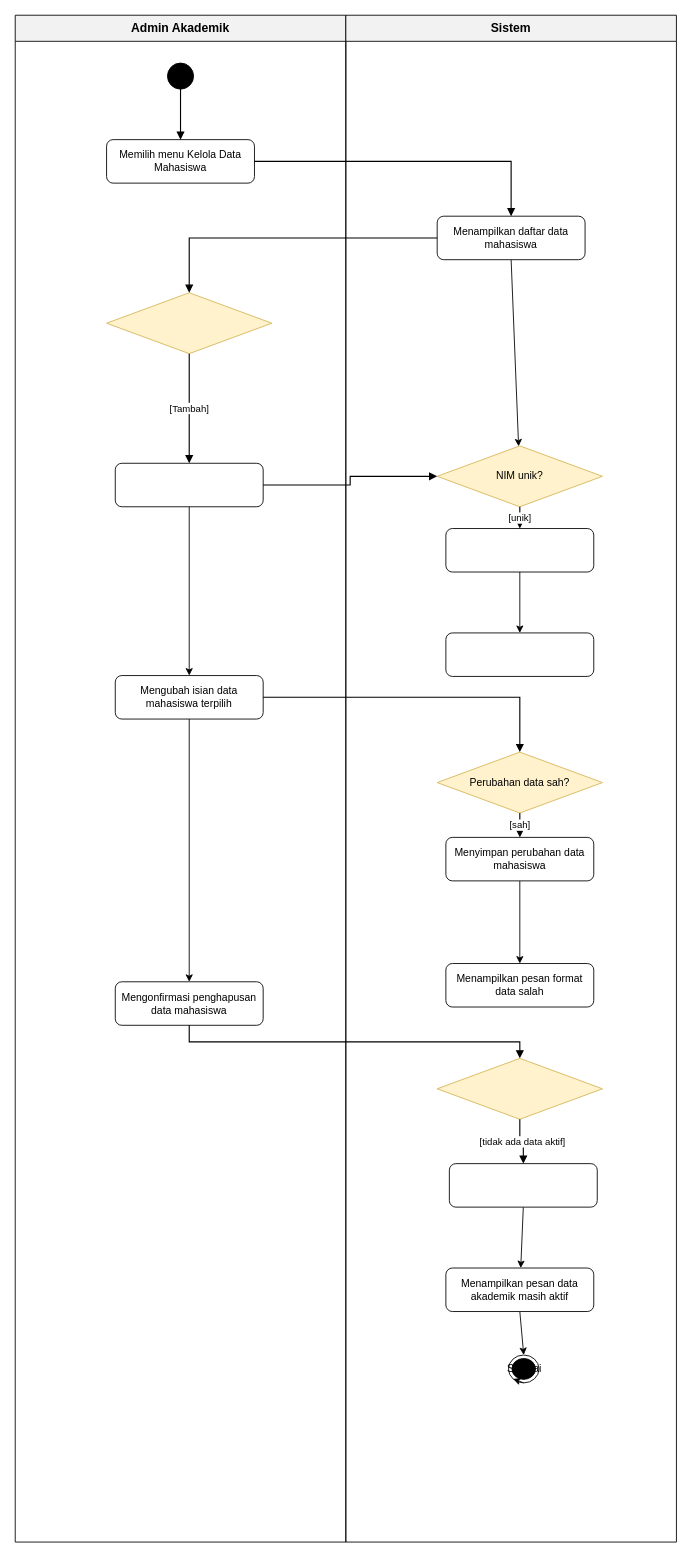
Image size: 692x1557. Some labels were removed from this diagram. The shapes that lost their labels are listed below. From the top down, each one's centre as x and y in pixels, then its label:
pixel 189 323: Memilih operasi pengelolaan
pixel 188 484: Mengisi formulir data mahasiswa baru
pixel 519 550: Menyimpan data mahasiswa baru
pixel 519 654: Menampilkan pesan NIM duplikat
pixel 519 1088: Tidak ada data akademik aktif?
pixel 522 1185: Menghapus data mahasiswa
